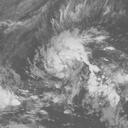cyclone: (39, 27, 95, 81)
